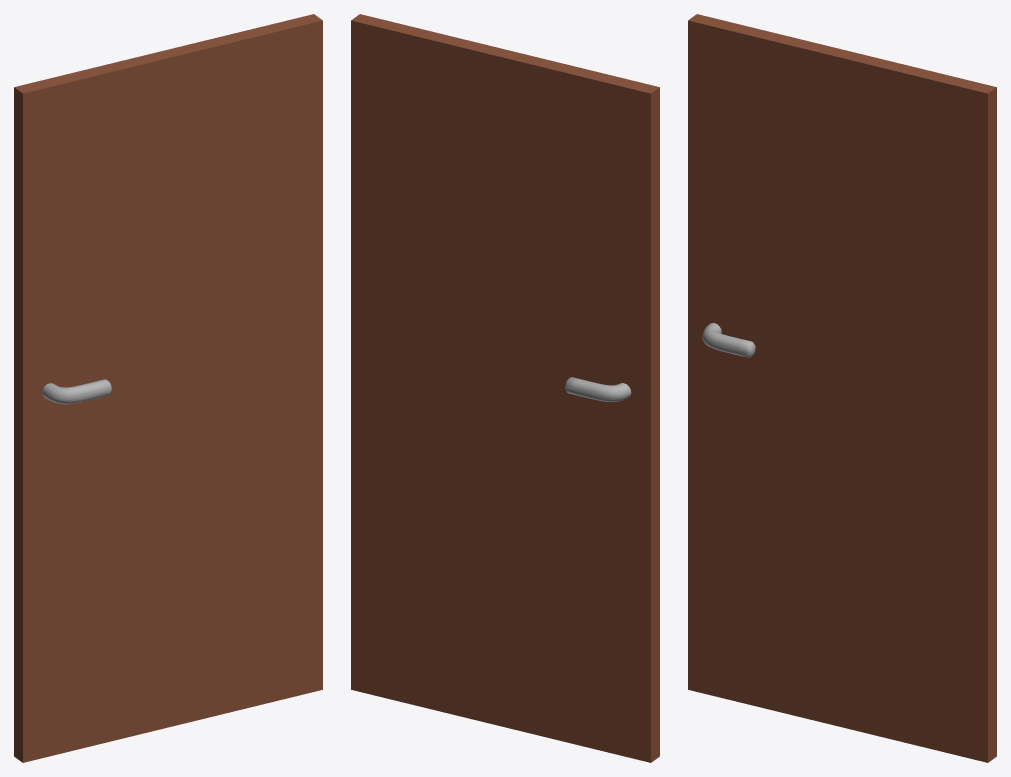
File: genericdoor.fbx
3 views of the same model, side by side, from view 1: azimuth 30°, elevation 25°; view 2: azimuth 150°, elevation 25°; view 3: azimuth 330°, elevation 25° (orthographic).
Parts seen in each view (by area): view 1: door; view 2: door; view 3: door.
Boxes of the visible parts, <box> form: door: <box>14,14,322,762</box>; door: <box>351,14,659,762</box>; door: <box>688,14,996,762</box>.
Size of the model in its own units: 119 by 255 by 24.68.
